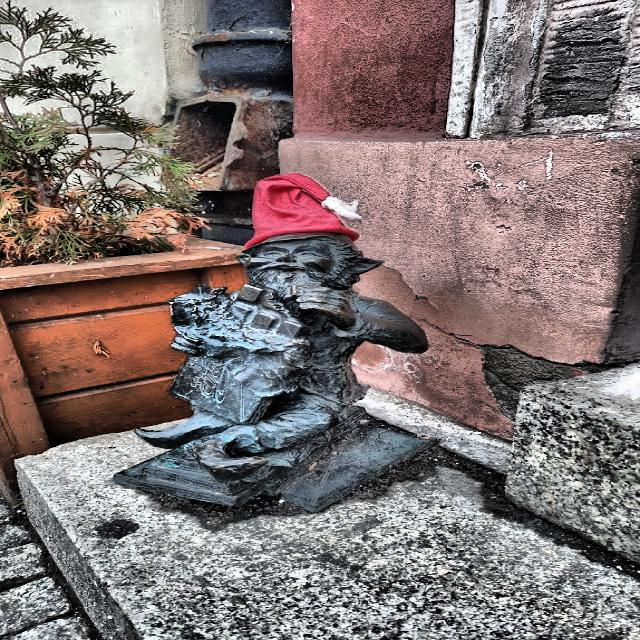Wedelek: (113, 174, 431, 512)
